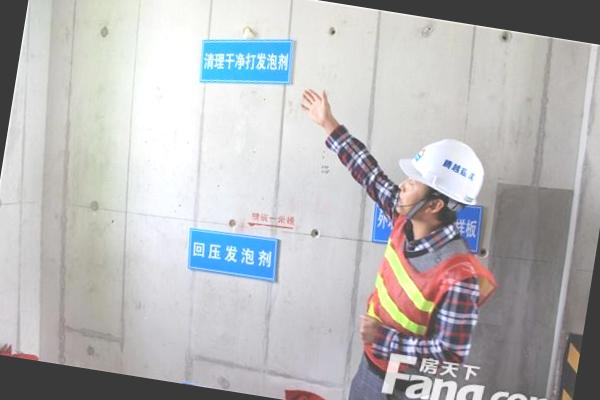helmet: (392, 131, 489, 207)
person: (332, 124, 509, 400)
